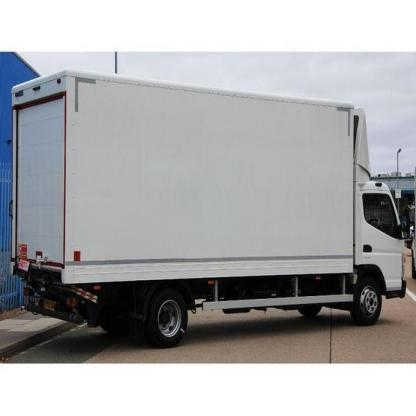truck: (10, 70, 407, 344)
